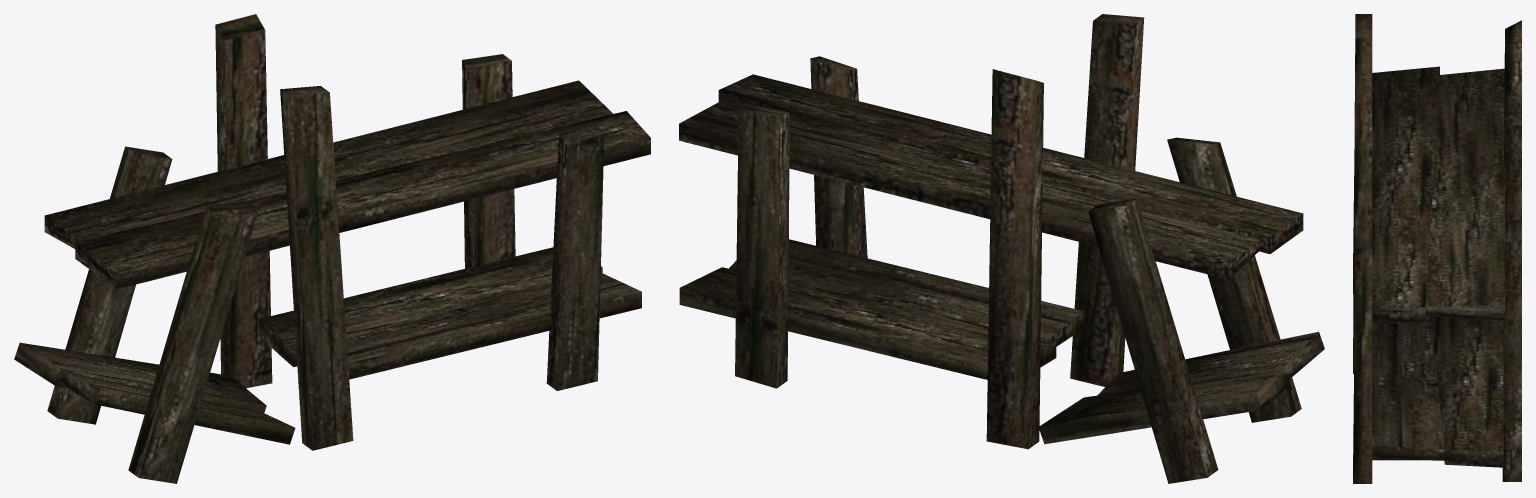
Rendered from OC_SHELF_V3.glb.
3 views of the same model, side by side, from view 1: azimuth 30°, elevation 25°; view 2: azimuth 150°, elevation 25°; view 3: azimuth 270°, elevation 25° (orthographic). The views are drawn at different scales.
Visible parts, largest first — view 1: Mesh; view 2: Mesh; view 3: Mesh.
Part boxes in pixels (x1,y1,x2,y2): Mesh: [14, 14, 650, 483]; Mesh: [679, 14, 1324, 483]; Mesh: [1353, 14, 1521, 483].
Size of the model in its own units: 2.52 by 1.53 by 0.7002.
Materials: 1 (1 with a texture image).
